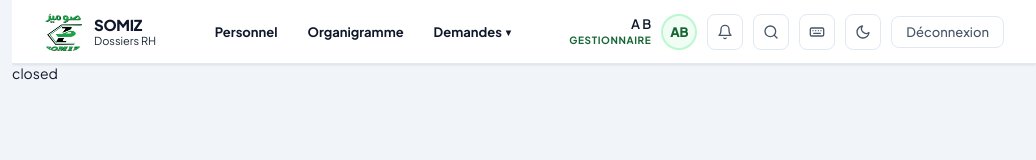
Scenario: Navbar (desktop) — menu déroulant « Demandes » › Échap referme le déroulant
The width and height of the screenshot is (1036, 160).
Click the button "Demandes ▾" at (472, 32), box [420,16,525,46]
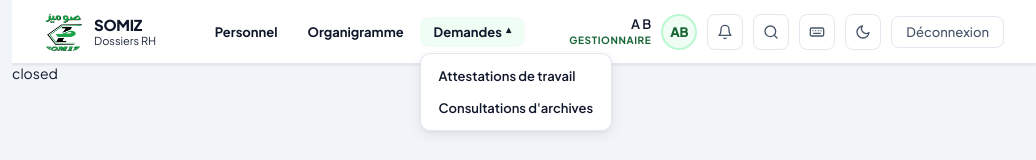
Now the menu is shown, box [420,52,612,130]
Press Escape
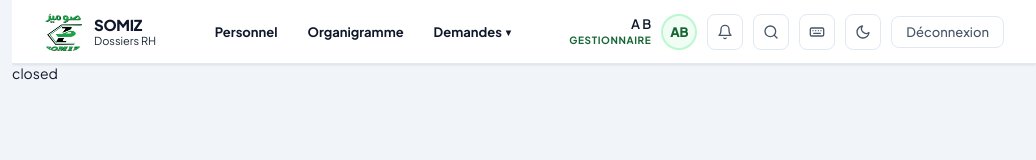
Now the menu is gone
